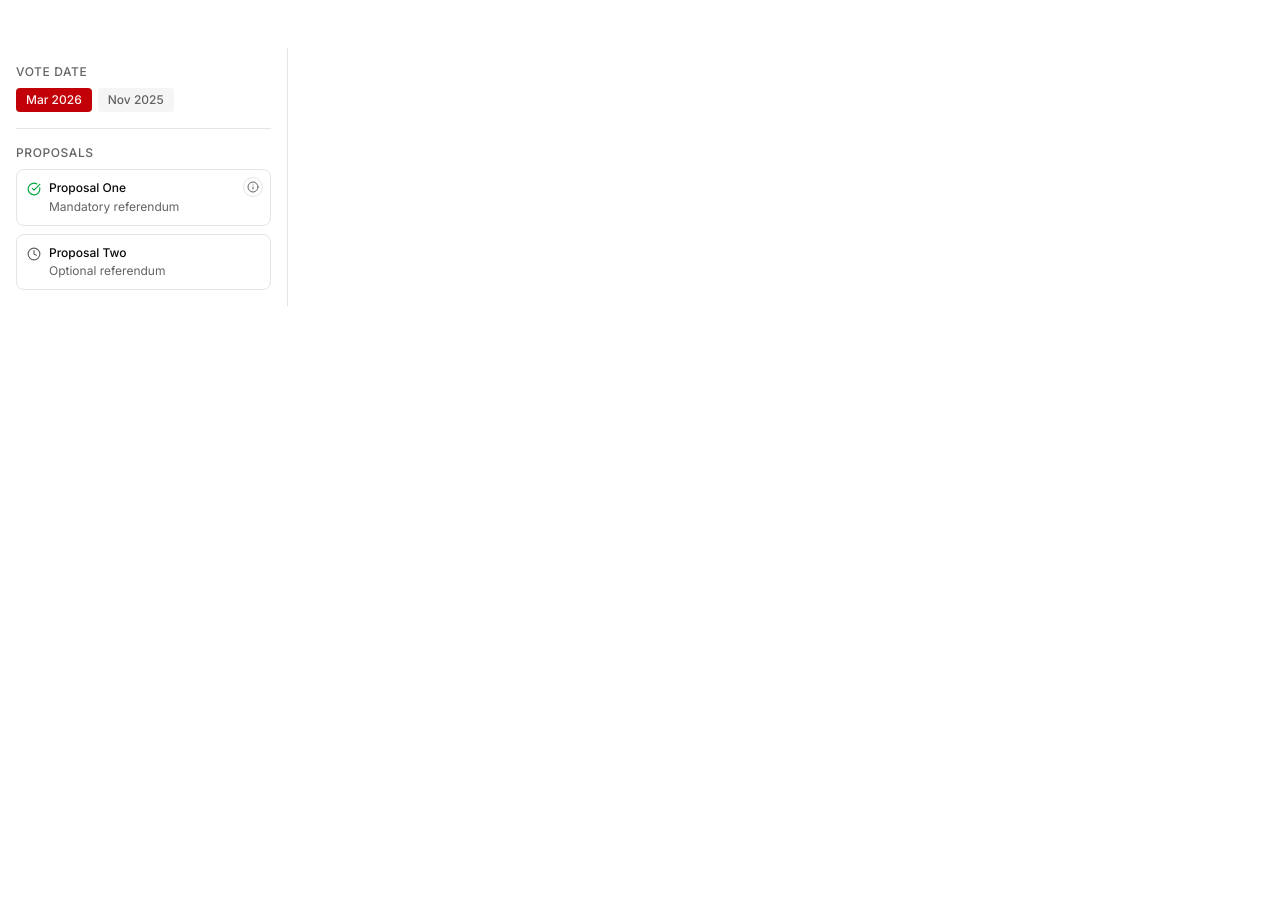
Test case: AppSidebar › only shows the explanations button for proposals with erlaeuterungen, and opens the modal
The image size is (1280, 900).
Click the button titled "Federal Council Explanations".
click(253, 187)  # box [243,177,263,197]
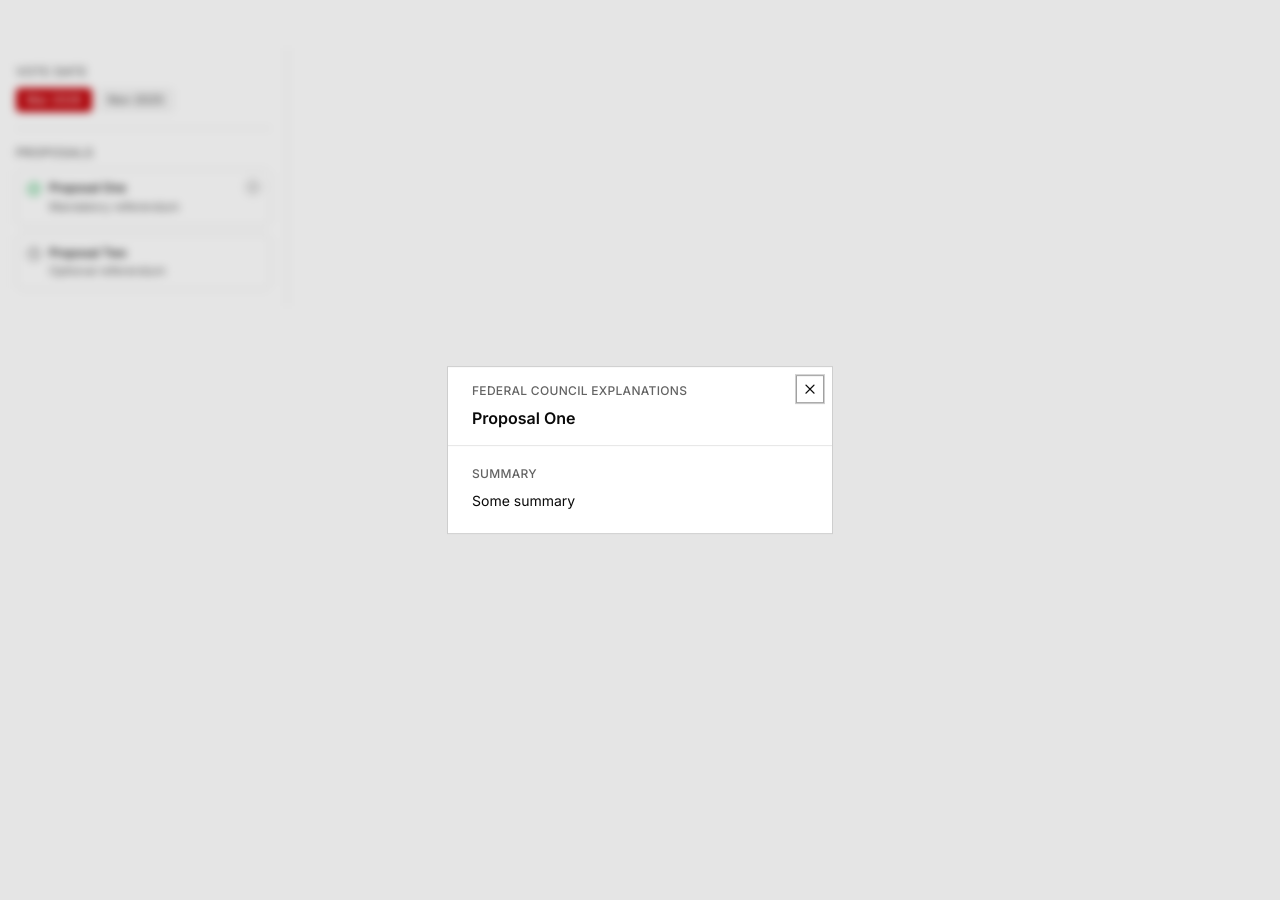
Result: the dialog is shown at [448,367,832,533]
